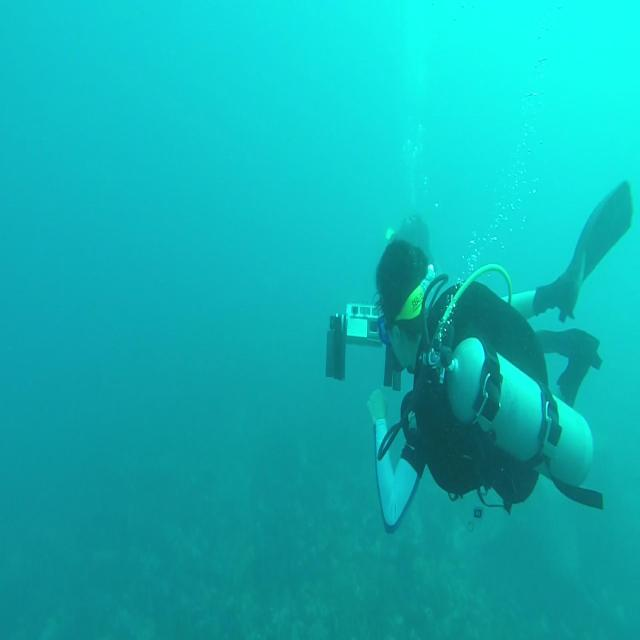human: (326, 180, 633, 533)
